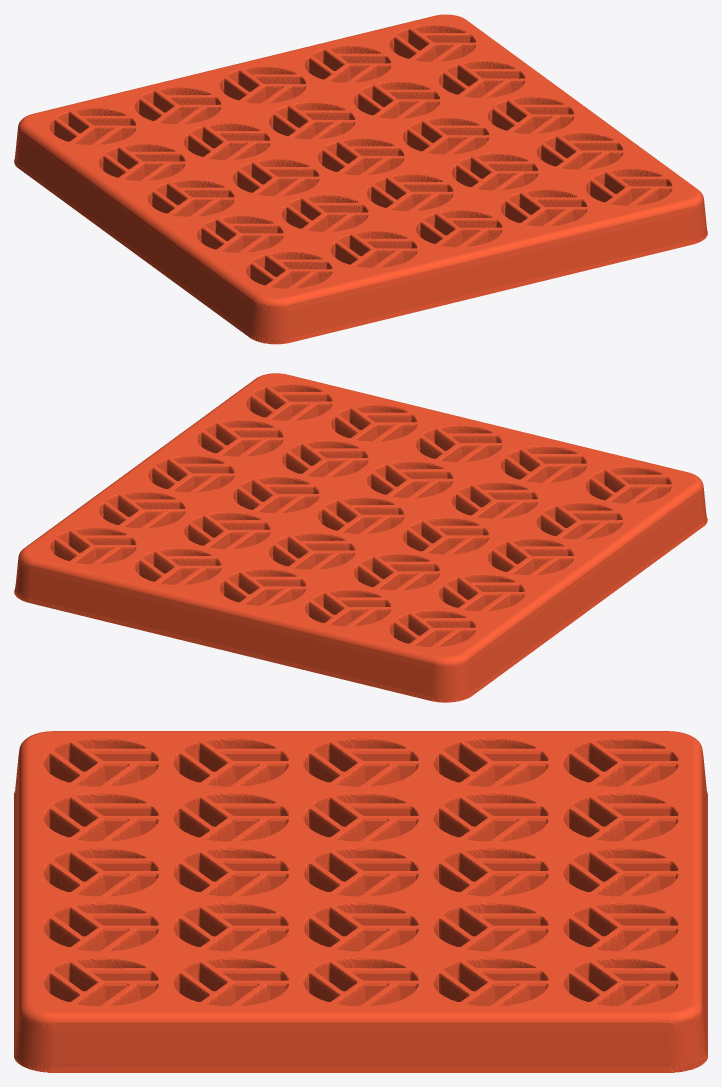
File: mold.glb
The picture shows the model from 3 angles, top to bottom: view 1: azimuth 30°, elevation 25°; view 2: azimuth 150°, elevation 25°; view 3: azimuth 270°, elevation 25°; orthographic projection. The views are drawn at different scales.
Parts seen in each view (by area): view 1: geometry_0; view 2: geometry_0; view 3: geometry_0.
Part boxes in pixels (left/top/right/bottom): geometry_0: left=14, top=14, right=707, bottom=344; geometry_0: left=14, top=373, right=707, bottom=702; geometry_0: left=14, top=731, right=707, bottom=1072.
Size of the model in its own units: 0.1584 by 0.0136 by 0.1584.
